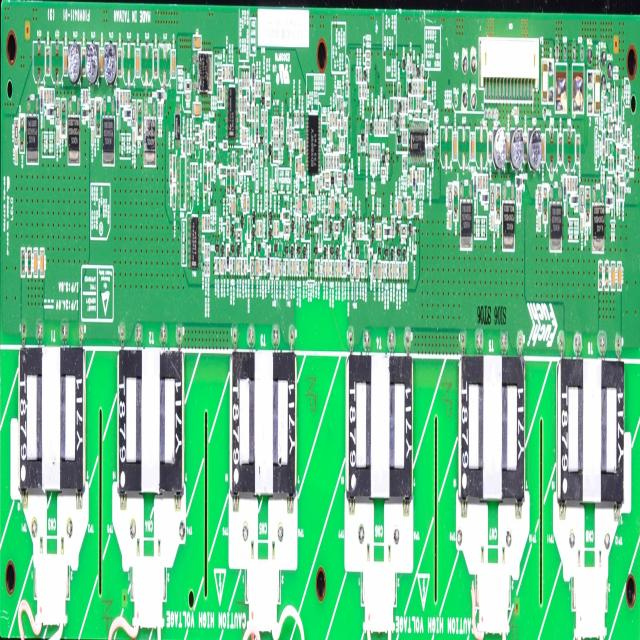Capacitor Jumper: (494, 129, 506, 166), (529, 132, 541, 168), (69, 41, 80, 80), (87, 44, 98, 82), (513, 134, 524, 169), (105, 44, 116, 78), (192, 34, 202, 50), (135, 48, 140, 78), (171, 50, 176, 78), (34, 246, 38, 276), (64, 45, 68, 75), (82, 46, 86, 76), (471, 132, 475, 160), (40, 248, 44, 276), (100, 48, 104, 76), (617, 265, 621, 290), (193, 101, 200, 115), (541, 136, 545, 160), (611, 264, 615, 288), (454, 129, 457, 159), (407, 197, 411, 219), (506, 133, 509, 161), (355, 258, 359, 278), (298, 156, 302, 175), (364, 261, 368, 278), (184, 91, 190, 101), (398, 197, 401, 216), (132, 128, 135, 146), (260, 150, 263, 168), (243, 194, 246, 212), (232, 198, 235, 216), (538, 215, 541, 233), (378, 261, 381, 278), (274, 148, 278, 160), (331, 198, 334, 214), (220, 257, 223, 273), (409, 170, 412, 185), (480, 174, 483, 189), (214, 258, 217, 273), (225, 65, 228, 79), (399, 261, 401, 282), (230, 256, 232, 274), (256, 259, 258, 277), (393, 263, 395, 281), (346, 80, 348, 97), (91, 128, 93, 145), (186, 136, 188, 153), (15, 148, 17, 165), (396, 262, 398, 279), (384, 262, 386, 279), (300, 138, 302, 154), (296, 160, 298, 176), (299, 197, 301, 213), (341, 197, 343, 213), (449, 212, 451, 228), (357, 223, 359, 239), (376, 223, 378, 239), (265, 259, 267, 275), (315, 259, 317, 275), (284, 260, 286, 276), (286, 260, 288, 276), (276, 260, 278, 276), (326, 260, 328, 276), (344, 262, 346, 278), (338, 262, 340, 278), (362, 262, 364, 278), (330, 111, 332, 126), (57, 129, 59, 144), (581, 216, 583, 231), (247, 73, 249, 87), (122, 91, 124, 105), (513, 108, 517, 115), (325, 172, 329, 179), (570, 178, 572, 192), (491, 216, 493, 230), (257, 222, 259, 236), (236, 259, 238, 273), (293, 260, 295, 274), (305, 260, 307, 274), (341, 262, 343, 276), (332, 262, 334, 276), (289, 138, 291, 151), (420, 170, 422, 183), (308, 198, 310, 211), (329, 262, 331, 275), (223, 88, 225, 100), (242, 131, 244, 143), (274, 223, 276, 235), (242, 259, 244, 271), (296, 260, 298, 272), (41, 89, 42, 112), (242, 116, 244, 126), (337, 88, 340, 94), (202, 214, 203, 230), (245, 258, 246, 274), (387, 263, 388, 279), (406, 264, 407, 280), (266, 82, 267, 97), (47, 89, 48, 103), (323, 175, 324, 188), (205, 262, 206, 274)
IC: (307, 123, 319, 168), (410, 129, 424, 154), (191, 220, 197, 260), (229, 89, 234, 134), (176, 115, 180, 136)
Resistor Jumper: (56, 98, 60, 126), (90, 98, 94, 126), (14, 116, 18, 144), (580, 186, 584, 213), (132, 100, 136, 125), (490, 185, 494, 209), (537, 186, 541, 209), (81, 108, 89, 118), (350, 260, 354, 279), (301, 219, 305, 237), (270, 260, 274, 278), (226, 215, 229, 238), (296, 216, 299, 237), (373, 262, 376, 283), (392, 217, 395, 237), (328, 196, 331, 215), (334, 223, 340, 232), (250, 258, 253, 276), (82, 88, 85, 105), (201, 234, 204, 251), (265, 99, 270, 109), (621, 146, 626, 156), (381, 169, 386, 179), (449, 184, 451, 208), (222, 65, 225, 80), (223, 140, 228, 149), (413, 64, 416, 78), (232, 153, 235, 167), (204, 216, 207, 230), (359, 224, 362, 238), (348, 170, 350, 190), (236, 231, 241, 239), (406, 102, 409, 115), (374, 120, 377, 133), (183, 139, 186, 152), (324, 216, 326, 235), (341, 114, 343, 132), (380, 120, 382, 138), (211, 148, 213, 166), (620, 182, 622, 200), (311, 200, 314, 212), (402, 226, 406, 235), (379, 224, 381, 242), (217, 70, 222, 77), (413, 80, 415, 97), (52, 88, 54, 105), (212, 122, 214, 139), (193, 162, 195, 179), (394, 198, 396, 215), (390, 262, 392, 279), (44, 88, 46, 104), (49, 88, 51, 104), (86, 89, 88, 105), (604, 96, 606, 112), (158, 103, 160, 119), (423, 112, 427, 120), (262, 110, 264, 126), (358, 136, 360, 152), (326, 153, 328, 169), (338, 172, 342, 180), (316, 174, 318, 190), (279, 260, 281, 276), (290, 260, 292, 276), (410, 57, 412, 73), (421, 65, 423, 80), (356, 67, 358, 82), (359, 87, 362, 97), (128, 90, 130, 105), (120, 91, 122, 106), (408, 95, 410, 110), (160, 103, 162, 118), (301, 112, 303, 127), (208, 125, 210, 140), (434, 128, 436, 143), (615, 129, 617, 144), (337, 156, 339, 171), (416, 169, 418, 184), (223, 258, 225, 273), (323, 260, 325, 275), (366, 50, 369, 60), (419, 80, 421, 94), (268, 82, 270, 96), (612, 90, 614, 104), (126, 91, 128, 105), (242, 99, 244, 113), (434, 113, 436, 127), (333, 113, 335, 127), (338, 120, 340, 134), (366, 120, 368, 134), (429, 128, 431, 142), (370, 145, 372, 159), (429, 146, 431, 160), (386, 150, 388, 164), (334, 155, 336, 169), (170, 156, 172, 170), (241, 157, 243, 171), (246, 157, 248, 171), (235, 169, 237, 183), (572, 177, 574, 191), (606, 178, 608, 192), (260, 222, 262, 236), (276, 222, 278, 236), (366, 61, 370, 68), (232, 66, 234, 79), (228, 67, 230, 80), (416, 82, 418, 95), (247, 106, 249, 119), (252, 107, 254, 120), (608, 114, 610, 127), (274, 117, 276, 130), (276, 117, 278, 130), (327, 125, 329, 138), (405, 131, 407, 144), (628, 147, 630, 160), (602, 148, 604, 161), (249, 158, 251, 171), (190, 163, 192, 176), (483, 176, 485, 189), (516, 190, 518, 203), (205, 244, 207, 257), (260, 260, 262, 273), (207, 262, 209, 275), (242, 74, 244, 86), (364, 85, 366, 97), (220, 88, 222, 100), (411, 97, 413, 109), (417, 98, 419, 110), (256, 108, 258, 120), (264, 112, 266, 124), (290, 122, 292, 134), (195, 126, 199, 132), (330, 129, 332, 141), (292, 129, 294, 141), (196, 135, 199, 143), (276, 135, 278, 147), (265, 142, 267, 154), (327, 146, 331, 152), (623, 161, 625, 173), (567, 178, 569, 190), (207, 218, 209, 230), (407, 67, 409, 78), (337, 98, 339, 109), (250, 106, 252, 117), (612, 108, 614, 119), (342, 139, 344, 150), (405, 155, 407, 166), (575, 178, 577, 189), (617, 178, 618, 200), (218, 80, 222, 85), (247, 89, 249, 99), (252, 92, 254, 102), (423, 103, 427, 108), (281, 120, 283, 130), (603, 134, 605, 144), (281, 137, 283, 147), (617, 145, 618, 165), (212, 170, 214, 180), (478, 177, 480, 187), (191, 182, 193, 192), (519, 191, 521, 201), (403, 116, 405, 125), (378, 120, 379, 138), (326, 181, 329, 187), (351, 170, 352, 187), (403, 262, 404, 279), (378, 144, 379, 160), (423, 169, 424, 185), (360, 260, 361, 276), (303, 260, 304, 276), (336, 260, 337, 276), (256, 81, 257, 96), (403, 100, 404, 115), (373, 145, 374, 160), (382, 262, 383, 277), (259, 81, 260, 95), (422, 84, 423, 98), (429, 89, 430, 103), (416, 110, 418, 117), (386, 120, 387, 134), (345, 122, 346, 136), (265, 126, 266, 140), (287, 129, 288, 143), (297, 132, 298, 146), (190, 138, 191, 152), (340, 138, 341, 152), (170, 176, 172, 183), (321, 175, 322, 189), (486, 176, 487, 190), (208, 245, 209, 259), (240, 82, 241, 95), (218, 88, 219, 101), (297, 113, 298, 126), (619, 130, 620, 143), (403, 131, 404, 144), (295, 133, 296, 146), (274, 134, 275, 147), (606, 140, 607, 153), (332, 155, 333, 168), (196, 165, 197, 178), (253, 166, 254, 179), (623, 186, 624, 199), (240, 98, 241, 110), (279, 118, 280, 130), (628, 130, 629, 142), (366, 139, 367, 151), (329, 155, 330, 167), (247, 198, 248, 210), (230, 199, 231, 211), (245, 75, 246, 86), (363, 86, 364, 97), (295, 113, 296, 124), (613, 127, 614, 138), (609, 158, 610, 169), (373, 164, 374, 175), (610, 180, 611, 191), (240, 260, 241, 271), (341, 98, 342, 108), (245, 100, 246, 110), (403, 157, 404, 167), (611, 160, 612, 170), (401, 116, 402, 125), (432, 149, 433, 158), (360, 69, 360, 84), (420, 98, 420, 107), (432, 108, 432, 118), (336, 114, 336, 125), (384, 120, 384, 135), (376, 144, 376, 160)
Transistor: (27, 120, 37, 163), (70, 118, 80, 160), (199, 56, 210, 88), (146, 121, 154, 163), (505, 206, 513, 245), (104, 123, 112, 157), (594, 210, 602, 243), (552, 204, 559, 239), (462, 206, 469, 237), (361, 133, 364, 145), (382, 150, 385, 160), (331, 175, 334, 185), (403, 59, 405, 72), (268, 143, 271, 151), (344, 170, 346, 182), (408, 83, 411, 90), (417, 67, 419, 77), (370, 120, 372, 130), (261, 136, 263, 145), (398, 101, 400, 109), (398, 135, 400, 142), (262, 96, 264, 102), (342, 220, 343, 228)
